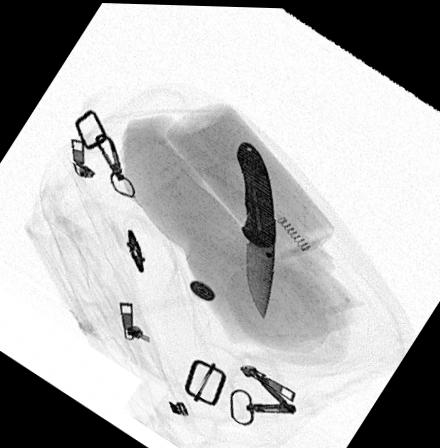Knife: (235, 138, 276, 317)
